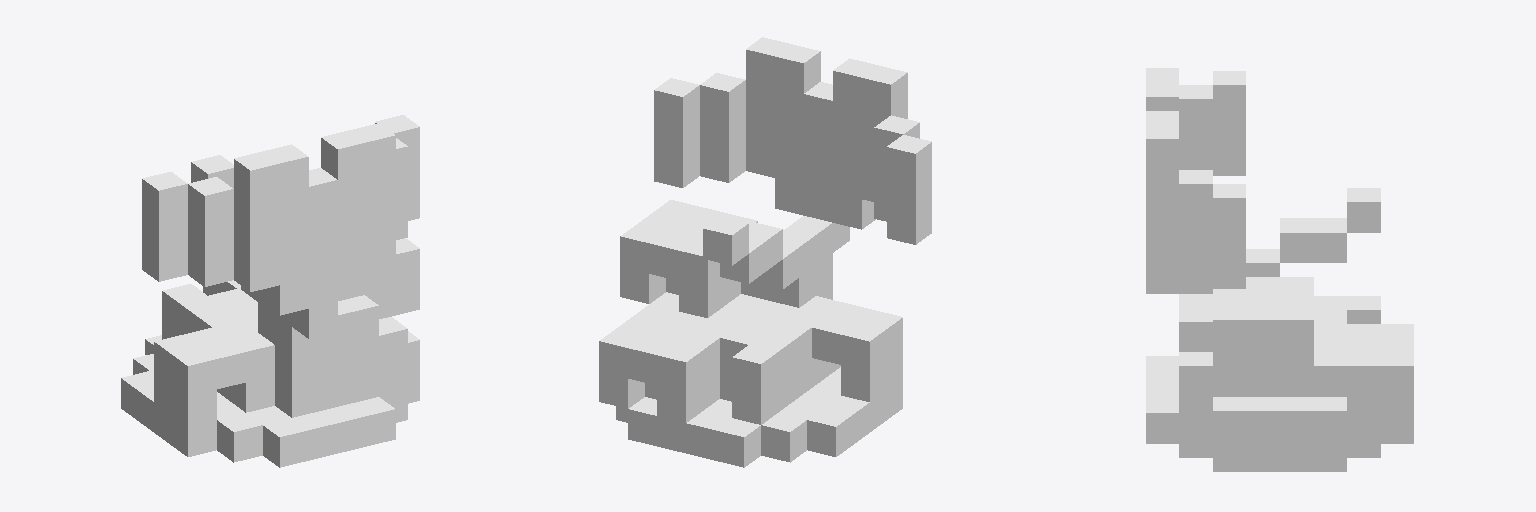
File: Radar.obj
The picture shows the model from 3 angles: view 1: azimuth 30°, elevation 25°; view 2: azimuth 150°, elevation 25°; view 3: azimuth 270°, elevation 25°; orthographic projection.
Parts seen in each view (by area): view 1: object 1; view 2: object 1; view 3: object 1.
Boxes of the visible parts, <box> form: object 1: <box>121,115,419,467</box>; object 1: <box>599,37,931,467</box>; object 1: <box>1146,68,1413,471</box>.
Bounding box in the file's own units: 0.9 × 1 × 0.8.